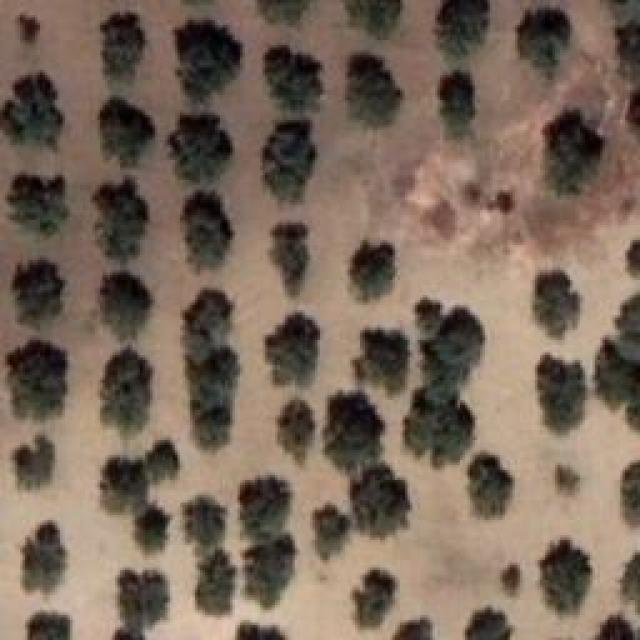Tree: (403, 392, 486, 467), (420, 308, 488, 388), (175, 20, 241, 102), (543, 110, 606, 195), (325, 394, 386, 474), (0, 73, 64, 149), (8, 340, 68, 421), (93, 178, 149, 262), (350, 464, 411, 538), (100, 347, 153, 432), (263, 120, 317, 202), (168, 115, 232, 182), (243, 533, 297, 609), (265, 313, 320, 386), (348, 55, 403, 128), (183, 193, 234, 271), (265, 48, 324, 114), (540, 540, 593, 613), (100, 98, 156, 167), (537, 355, 585, 433), (13, 260, 67, 327), (100, 273, 153, 341), (518, 10, 571, 77), (10, 175, 69, 235), (355, 330, 409, 395), (240, 475, 291, 541), (118, 570, 168, 635), (23, 523, 68, 595), (533, 273, 582, 339), (595, 340, 640, 410), (100, 13, 146, 79), (468, 453, 513, 520), (183, 292, 234, 350), (270, 223, 309, 296), (440, 0, 488, 58), (350, 240, 395, 301), (182, 353, 238, 401), (353, 570, 398, 628), (183, 493, 230, 548), (103, 458, 149, 513), (198, 553, 238, 616), (277, 400, 315, 466), (437, 70, 475, 136), (13, 435, 56, 490), (312, 505, 350, 561), (345, 0, 401, 38), (615, 295, 640, 365), (135, 505, 171, 553), (190, 408, 232, 448), (465, 607, 510, 640), (617, 17, 640, 77), (145, 438, 178, 478), (28, 612, 72, 640), (258, 0, 309, 23), (622, 463, 640, 526), (622, 553, 640, 613), (595, 615, 635, 640), (238, 622, 288, 640), (393, 618, 433, 640), (415, 298, 442, 329), (558, 465, 582, 495), (500, 565, 521, 597), (20, 15, 40, 45)
